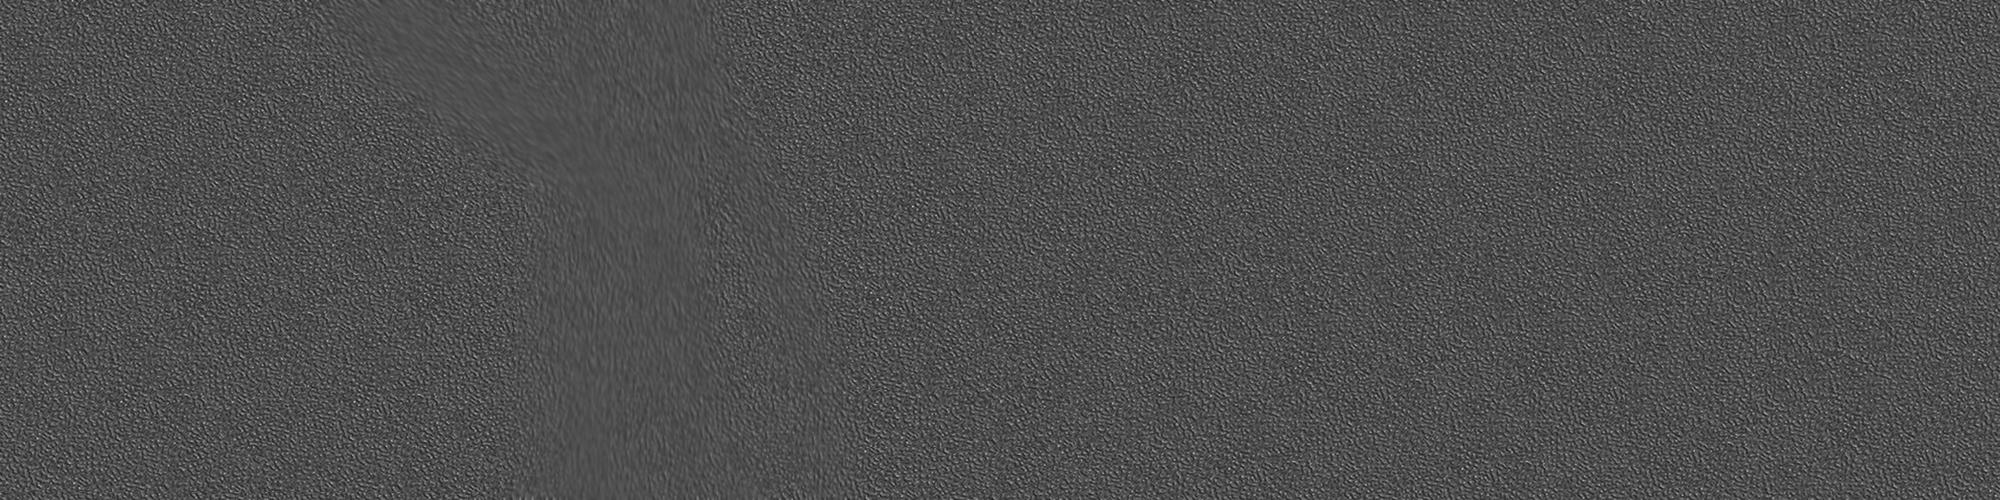Flow_Lines: (312, 5, 753, 492)
